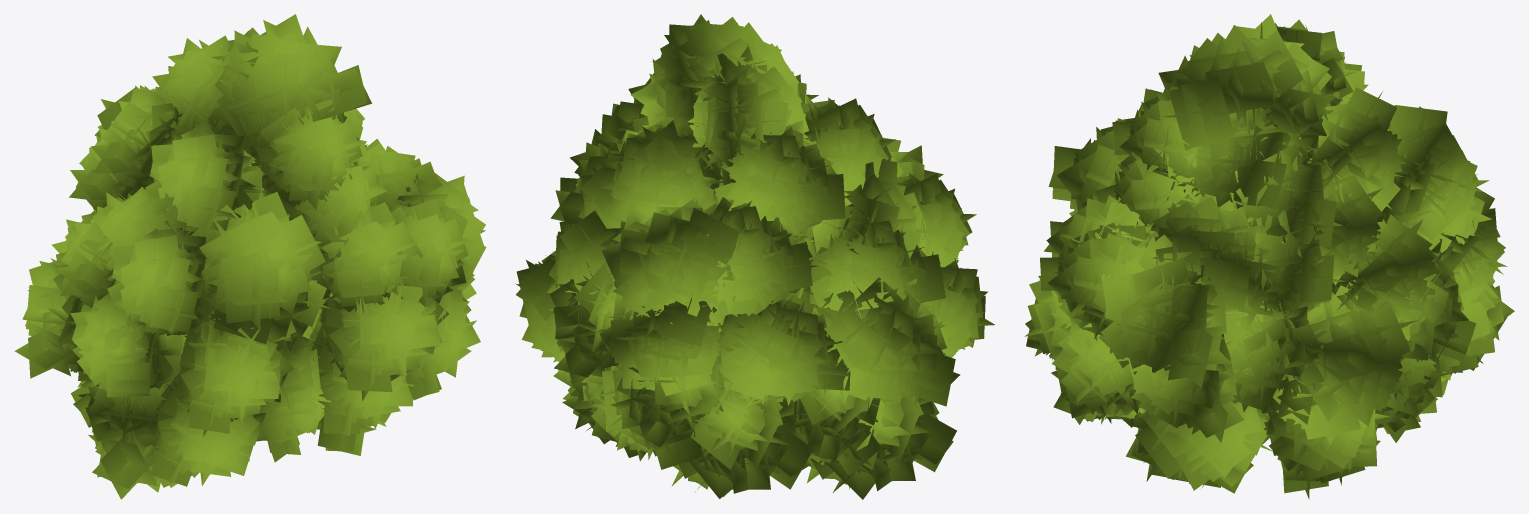
The model's file is SM_bush_03.fbx.
3 renders of one model, left to right at view 1: azimuth 30°, elevation 25°; view 2: azimuth 150°, elevation 25°; view 3: azimuth 270°, elevation 25°, orthographic. The views are drawn at different scales.
Parts seen in each view (by area): view 1: Object3427860; view 2: Object3427860; view 3: Object3427860.
Boxes of the visible parts, x1,y1,x2,y2 form: Object3427860: (14, 14, 486, 499); Object3427860: (515, 14, 994, 499); Object3427860: (1024, 14, 1514, 499).
Size of the model in its own units: 205 by 198 by 193.
